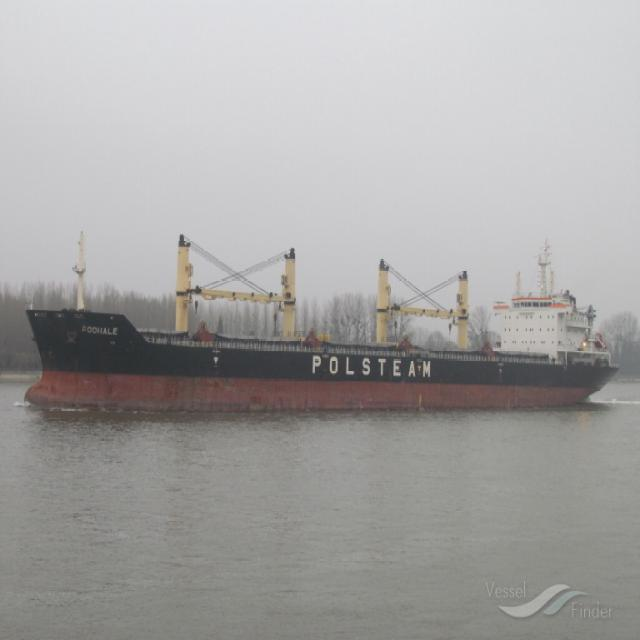Bulk Carrier: (23, 235, 618, 408)
